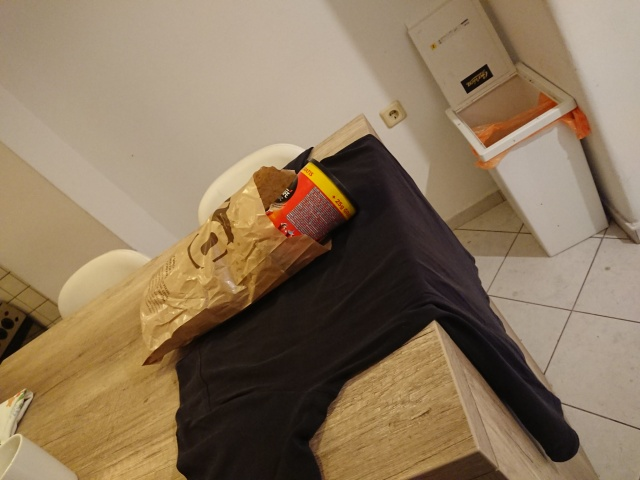Nescafe Classic 225g: (237, 156, 364, 271)
